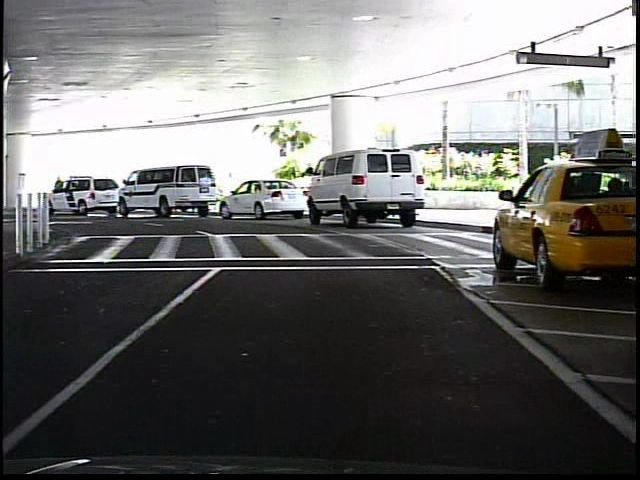person: (52, 175, 68, 211)
